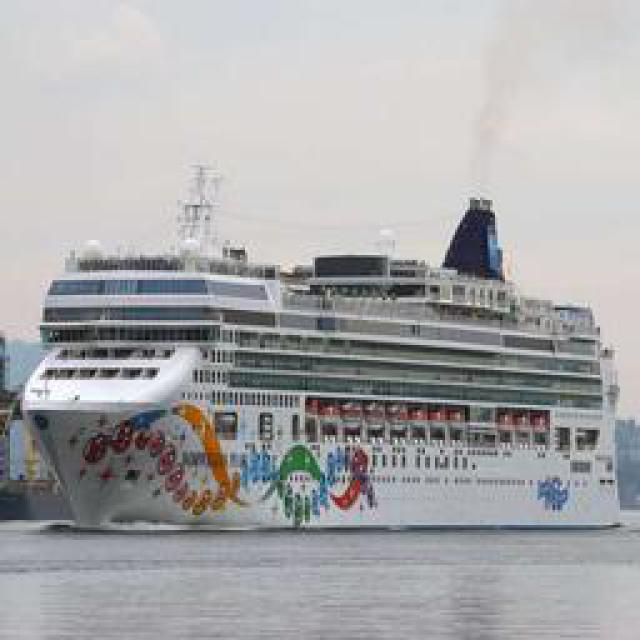Ship: (20, 168, 625, 523)
